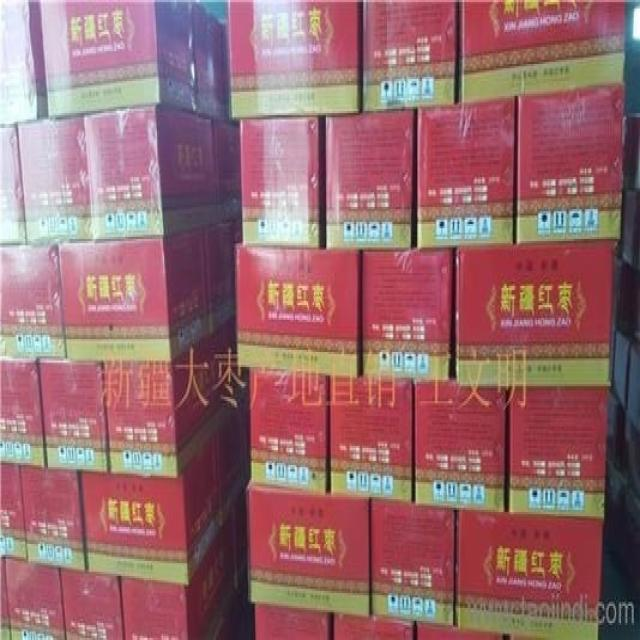box: (80, 414, 247, 585), (451, 237, 620, 386), (103, 318, 241, 478), (59, 230, 209, 363), (454, 508, 604, 640), (119, 489, 249, 640), (40, 0, 198, 117), (457, 0, 627, 105), (84, 107, 216, 241), (515, 81, 624, 243), (247, 482, 372, 617), (236, 245, 362, 375), (227, 2, 362, 117), (416, 96, 517, 245), (506, 384, 609, 518), (322, 109, 416, 247), (361, 247, 455, 380), (413, 380, 507, 512), (372, 497, 457, 627), (327, 373, 413, 499), (240, 115, 322, 247), (362, 0, 459, 111), (249, 367, 327, 493), (17, 115, 92, 245), (40, 358, 109, 471), (0, 243, 67, 358), (20, 465, 89, 574), (1, 0, 48, 124), (0, 356, 48, 467), (6, 557, 66, 638), (189, 2, 230, 119), (61, 567, 123, 640), (204, 220, 237, 335), (213, 119, 243, 224), (255, 604, 332, 640), (0, 463, 26, 561), (332, 612, 415, 638), (415, 621, 512, 640), (1, 557, 12, 638)
